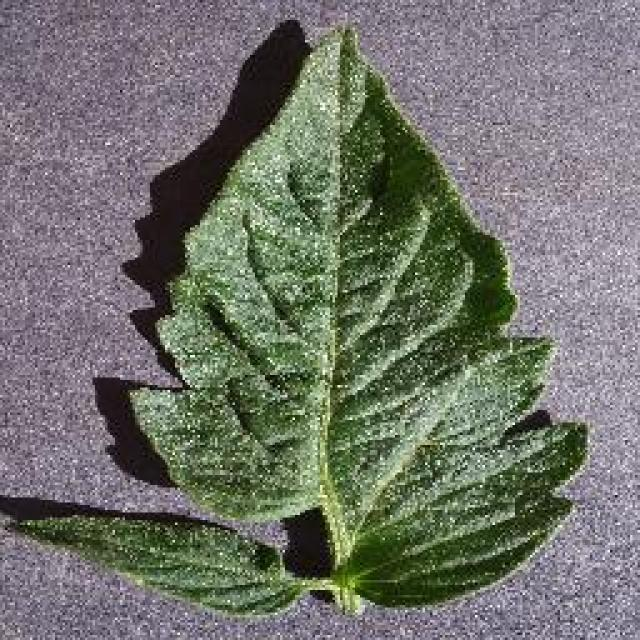Tomato healthy leaf: (126, 25, 586, 610)
